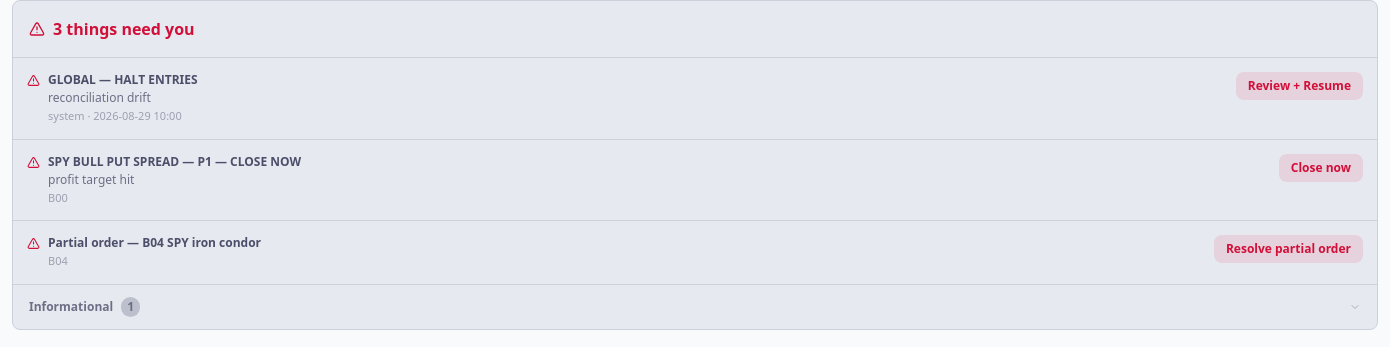
Test case: AttentionBlock › opens the reason form inline in only the tapped row
The image size is (1390, 347).
Step 1. Click the button with test id "attention-item-halt:GLOBAL-action" → (1299, 86), box [1236, 72, 1363, 100]
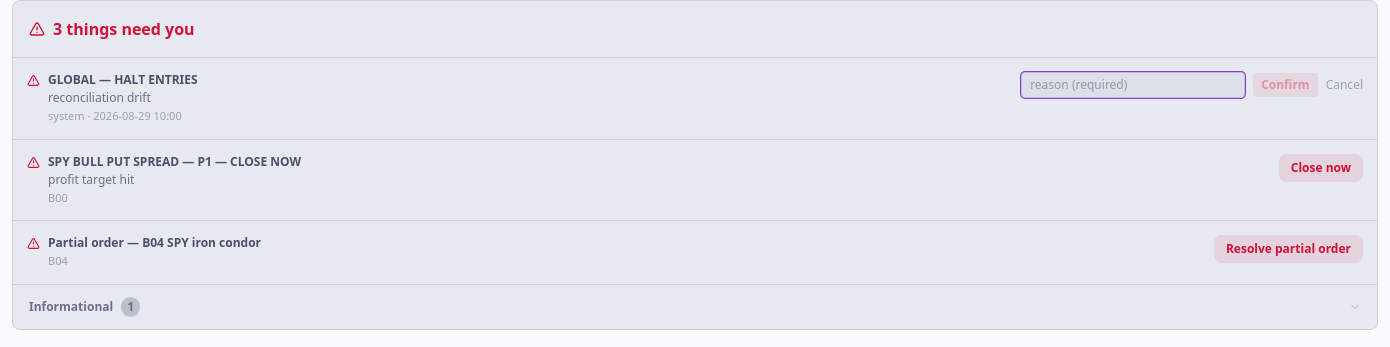
Expected: the button with test id "attention-item-partial:o1-action" is shown, [1214, 235, 1363, 263]
Expected: the form with test id "attention-item-halt:GLOBAL-form" is shown, [1021, 72, 1363, 98]
